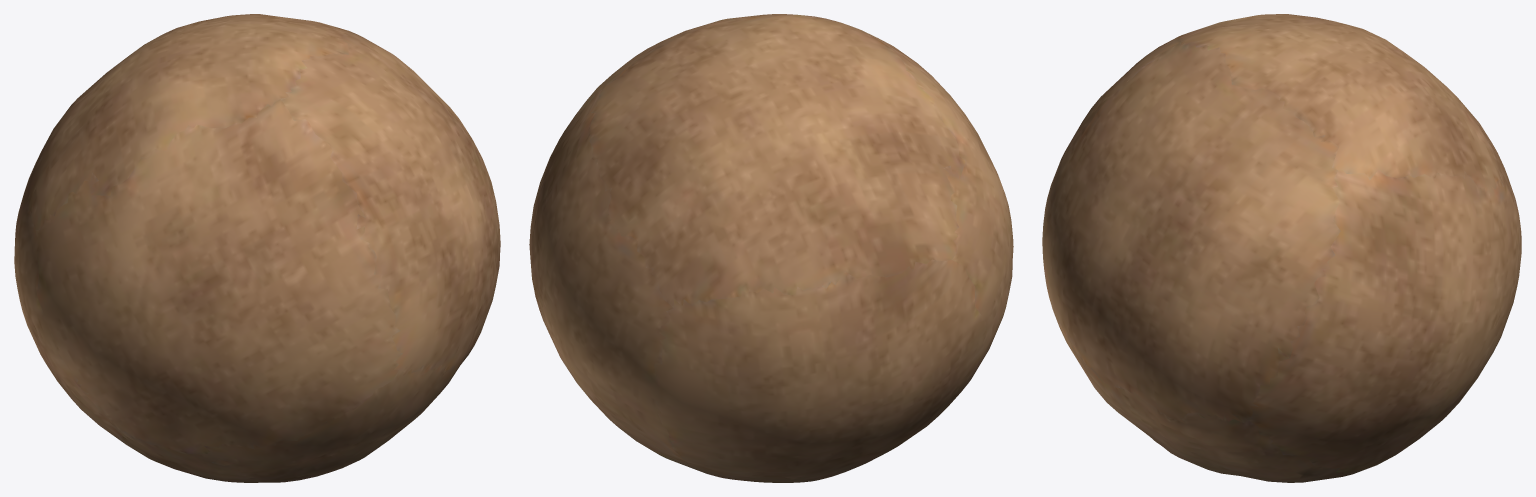
Rendered from worn-sandstone-balcony-v001.glb.
3 renders of one model, left to right at view 1: azimuth 30°, elevation 25°; view 2: azimuth 150°, elevation 25°; view 3: azimuth 270°, elevation 25°, orthographic.
Parts seen in each view (by area): view 1: worn-sandstone-balcony; view 2: worn-sandstone-balcony; view 3: worn-sandstone-balcony.
Boxes of the visible parts, x1=… form: worn-sandstone-balcony: x1=14, y1=14, x2=500, y2=482; worn-sandstone-balcony: x1=529, y1=14, x2=1013, y2=482; worn-sandstone-balcony: x1=1042, y1=14, x2=1521, y2=482.
Size of the model in its own units: 1.38 by 1.33 by 1.36.
1 material, 1 textured.
